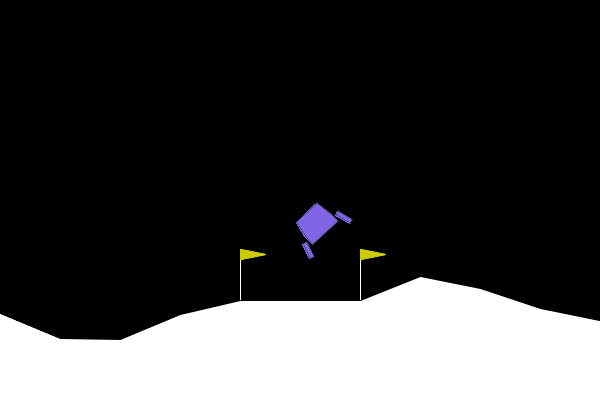lander: (283, 191, 354, 261)
